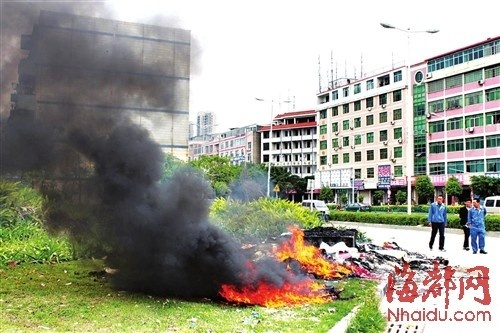fire: (218, 238, 348, 306), (220, 269, 341, 306)
